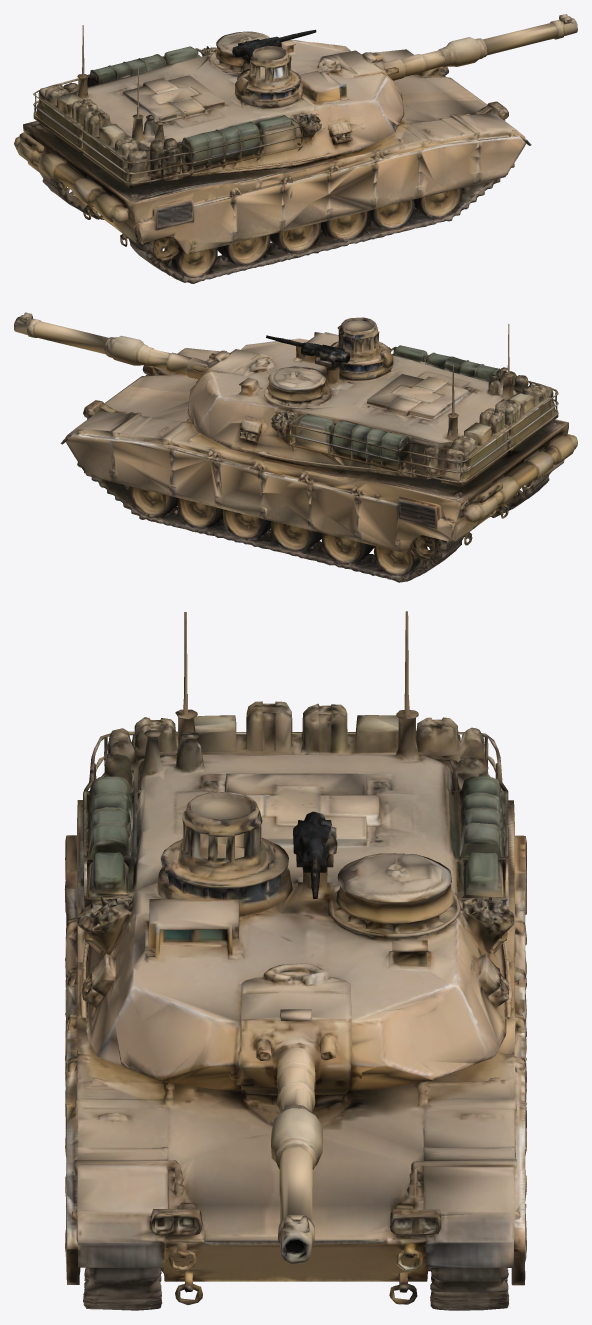
The model's file is tank_abrams.glb.
3 views of the same model, one above another, from view 1: azimuth 30°, elevation 25°; view 2: azimuth 150°, elevation 25°; view 3: azimuth 270°, elevation 25° (orthographic). The views are drawn at different scales.
Parts seen in each view (by area): view 1: node_0; view 2: node_0; view 3: node_0.
Part boxes in pixels (box(x1,y1,x2,y2)): node_0: box(14, 14, 577, 283); node_0: box(14, 312, 577, 582); node_0: box(64, 611, 526, 1310).
Size of the model in its own units: 1.14 by 0.4458 by 0.4463.
Materials: 1 (1 with a texture image).
